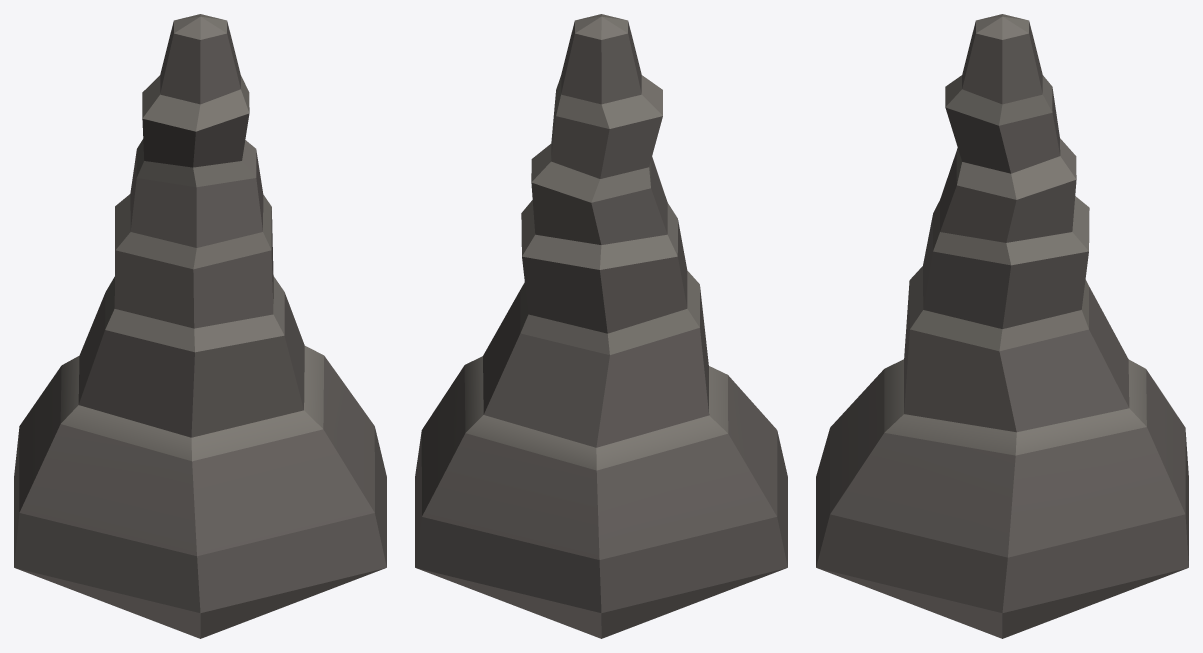
Rendered from SM_Env_Stalagmite_06.glb.
3 views of the same model, side by side, from view 1: azimuth 30°, elevation 25°; view 2: azimuth 150°, elevation 25°; view 3: azimuth 270°, elevation 25° (orthographic).
Parts seen in each view (by area): view 1: SM_Env_Stalagmite_06; view 2: SM_Env_Stalagmite_06; view 3: SM_Env_Stalagmite_06.
Boxes of the visible parts, x1,y1,x2,y2 form: SM_Env_Stalagmite_06: (14, 14, 386, 638); SM_Env_Stalagmite_06: (415, 14, 787, 638); SM_Env_Stalagmite_06: (816, 14, 1188, 638).
Bounding box in the file's own units: 0.00669 × 0.0107 × 0.00579.
Materials: 1 (1 with a texture image).
